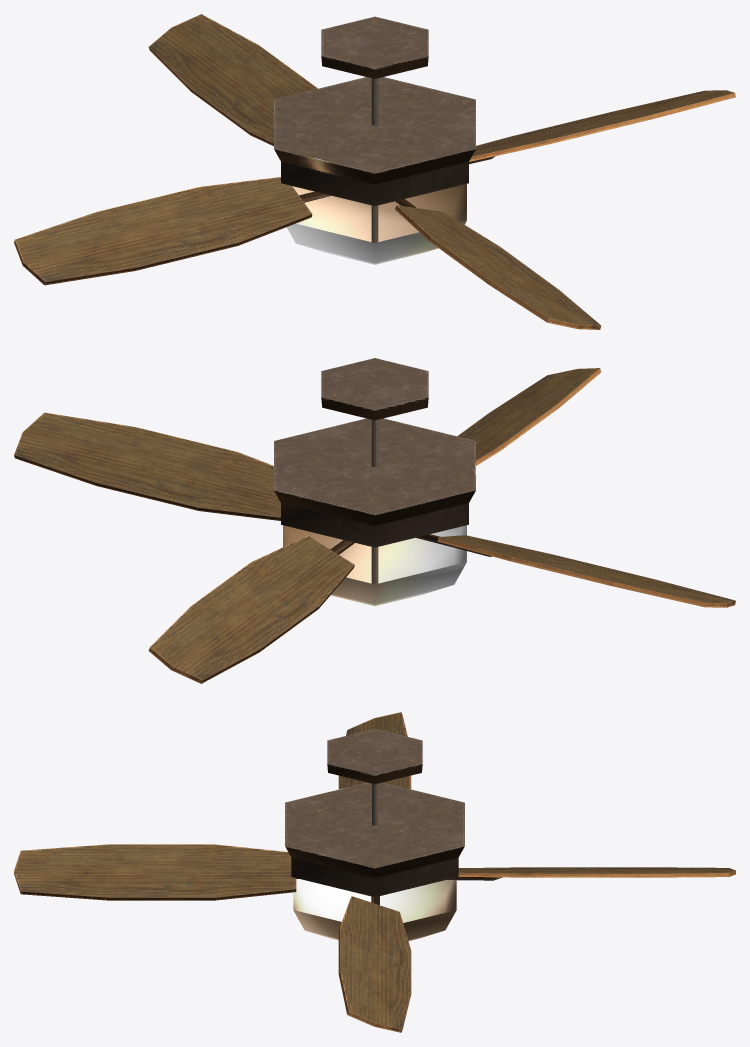
File: ceiling_fan.glb
3 renders of one model, top to bottom at view 1: azimuth 30°, elevation 25°; view 2: azimuth 150°, elevation 25°; view 3: azimuth 270°, elevation 25°, orthographic. The views are drawn at different scales.
Visible parts, largest first — view 1: Ceiling_Fan_Blades, Ceiling_Fan; view 2: Ceiling_Fan_Blades, Ceiling_Fan; view 3: Ceiling_Fan_Blades, Ceiling_Fan.
Part boxes in pixels (box(x1,y1,x2,y2)): Ceiling_Fan_Blades: box(14, 14, 735, 329); Ceiling_Fan: box(274, 16, 475, 264); Ceiling_Fan_Blades: box(14, 368, 735, 683); Ceiling_Fan: box(274, 358, 475, 606); Ceiling_Fan_Blades: box(14, 712, 735, 1032); Ceiling_Fan: box(285, 729, 464, 941).
Bounding box in the file's own units: 163 × 48.79 × 163.
1 material, 1 textured.
